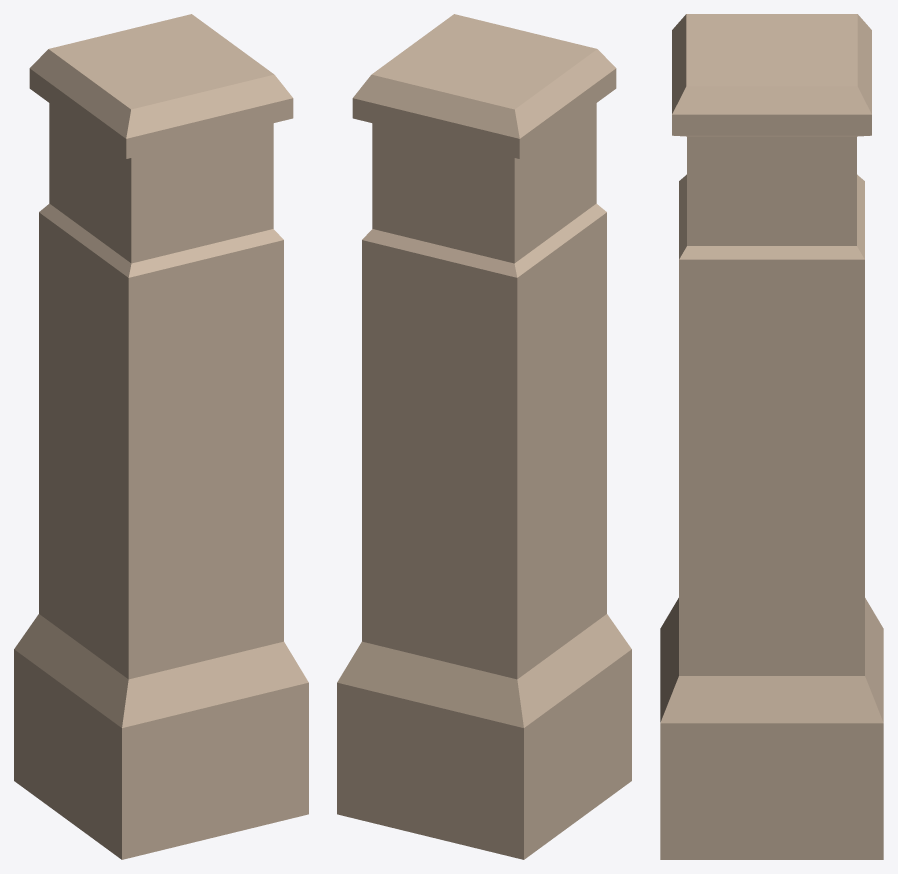
The model's file is BC_Pillar_F.fbx.
3 renders of one model, left to right at view 1: azimuth 30°, elevation 25°; view 2: azimuth 150°, elevation 25°; view 3: azimuth 270°, elevation 25°, orthographic. The views are drawn at different scales.
Parts seen in each view (by area): view 1: BC_Pillar_F; view 2: BC_Pillar_F; view 3: BC_Pillar_F.
Boxes of the visible parts, x1,y1,x2,y2 form: BC_Pillar_F: [14, 14, 308, 859]; BC_Pillar_F: [337, 14, 631, 859]; BC_Pillar_F: [660, 14, 883, 859].
Bounding box in the file's own units: 132 × 495 × 132.
